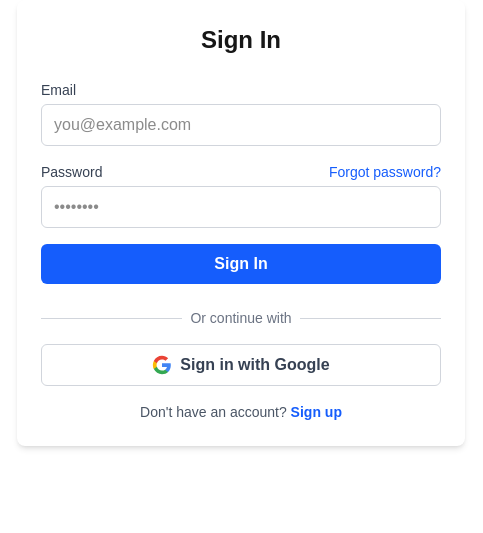
Test case: LoginForm › Form Submission - Error Handling › should clear error message on new submission attempt
The width and height of the screenshot is (483, 533).
First attempt - fails
Step 1. Type "test@example.com" into the field labelled "Email" → (241, 125), box [41, 104, 441, 146]
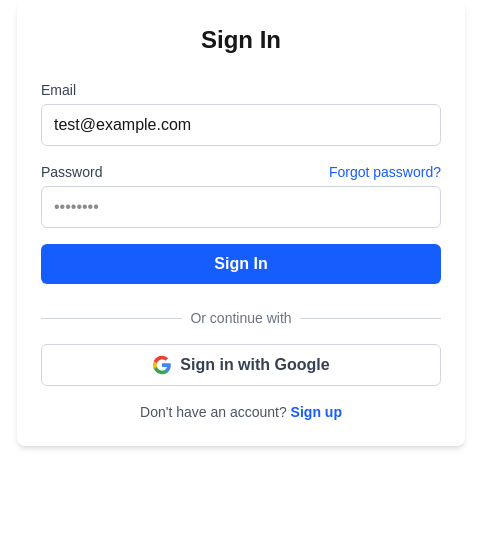
Step 2. Type "wrongpassword" into the password field labelled "Password" → (241, 207), box [41, 186, 441, 228]
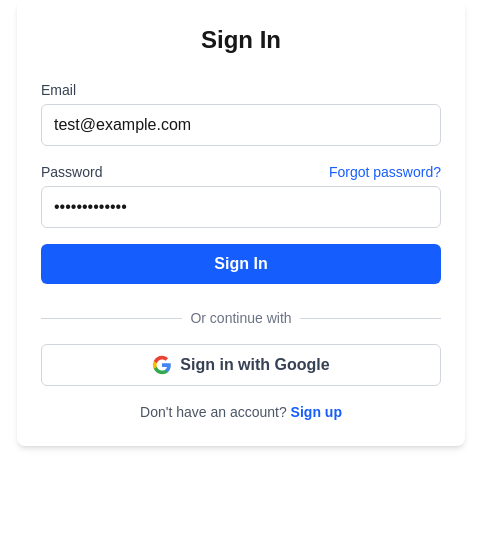
Step 3. Click the button "Sign In" → (241, 264), box [41, 244, 441, 284]
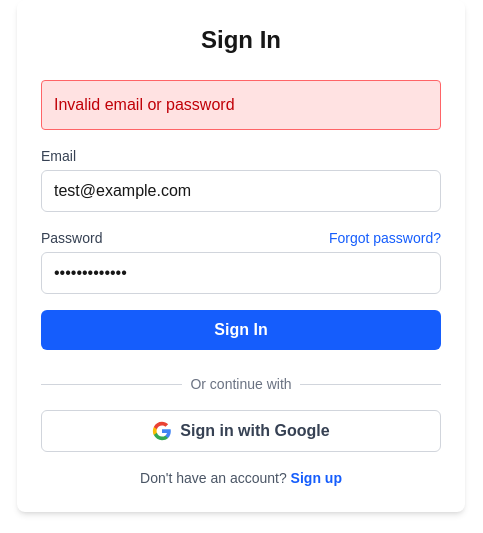
Check: the text "Invalid email or password" is shown, box [41, 80, 441, 130]
Step 4. Type "correctpassword" into the password field labelled "Password" → (241, 273), box [41, 252, 441, 294]
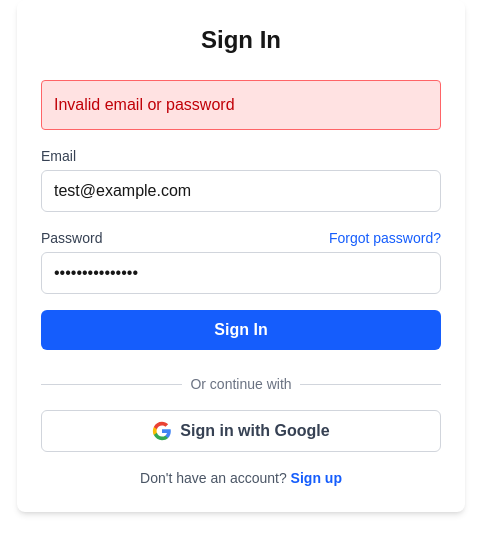
Step 5. Click the button "Sign In" → (241, 330), box [41, 310, 441, 350]
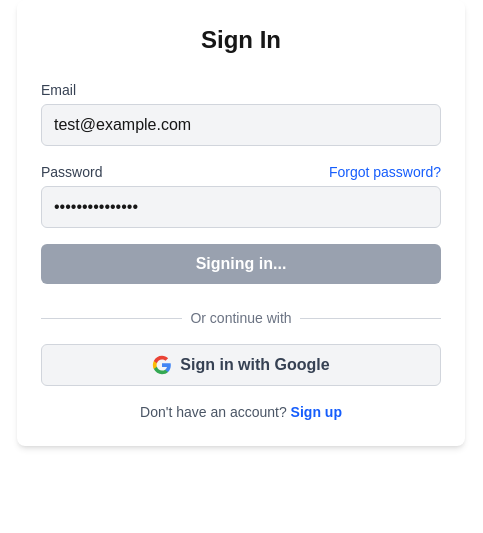
Check: the text "Invalid email or password" is gone
